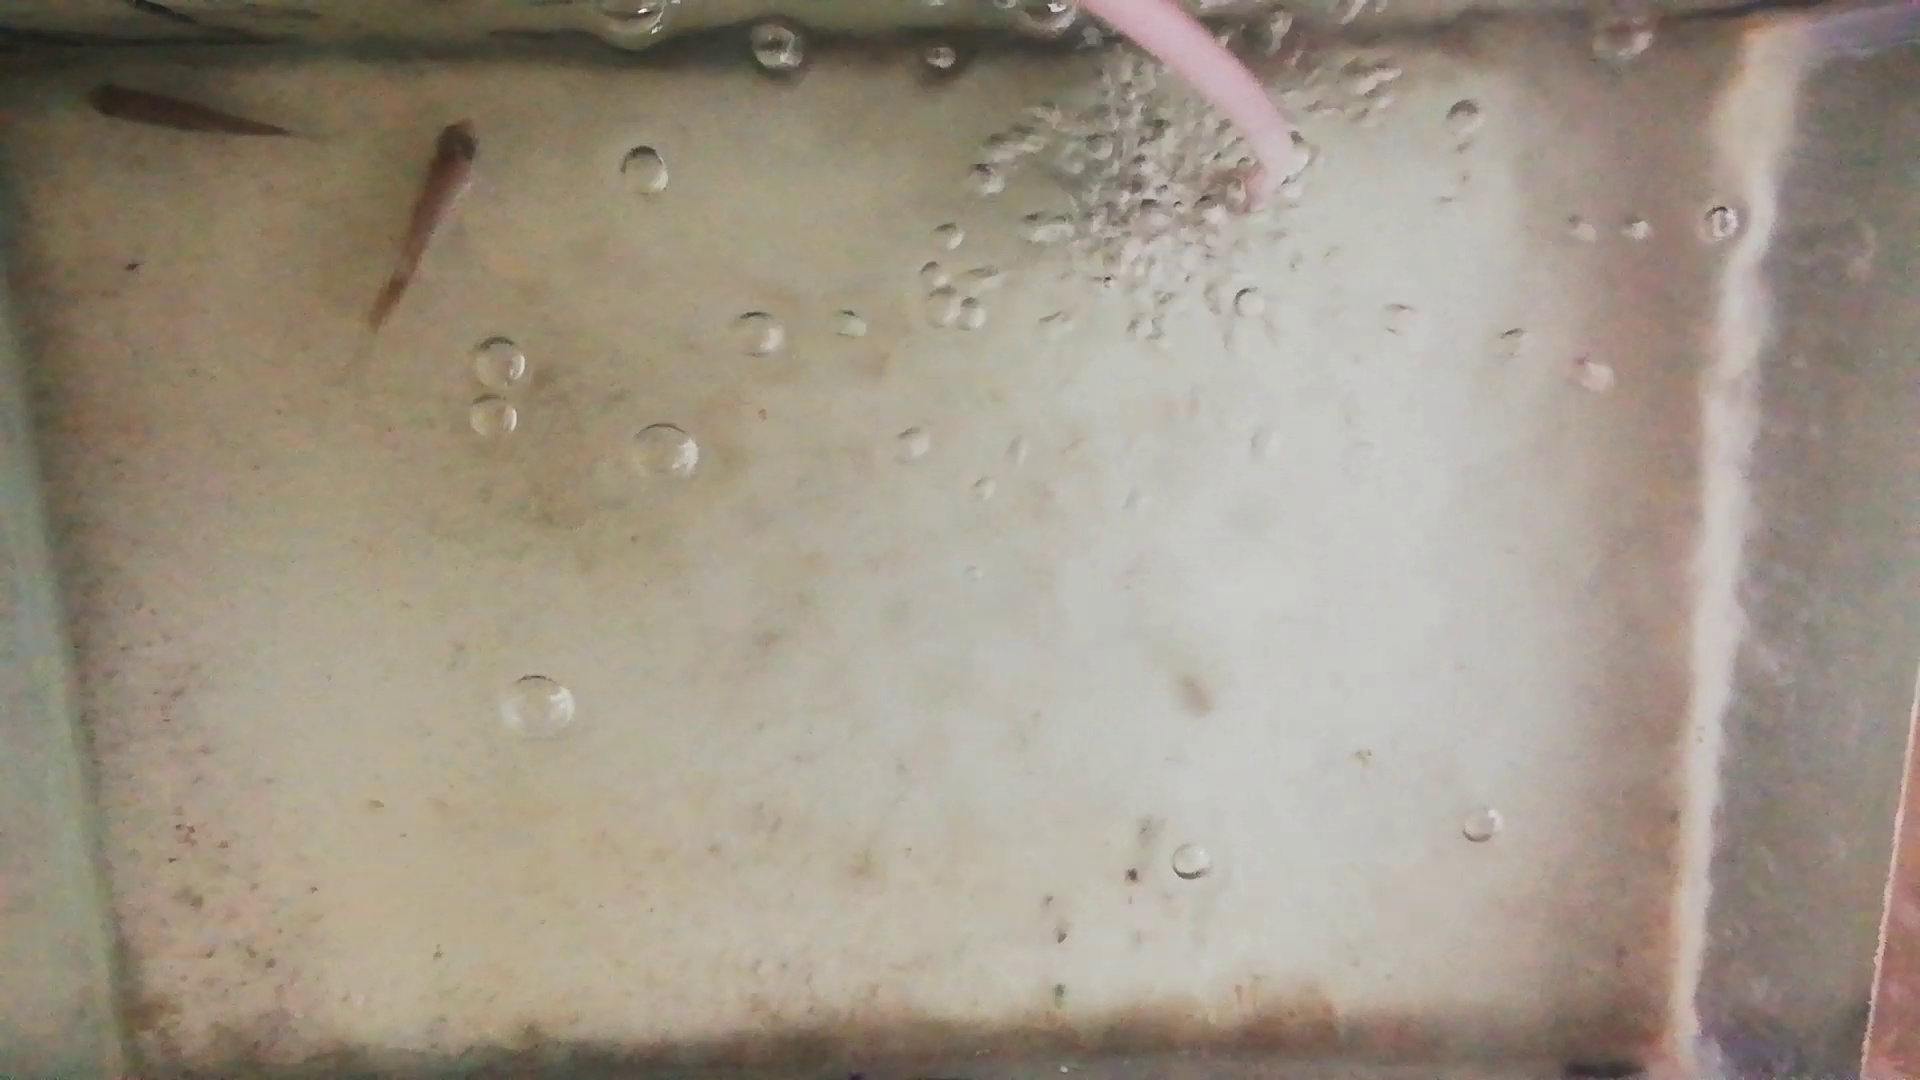fish: (377, 119, 481, 327), (74, 87, 287, 136)
